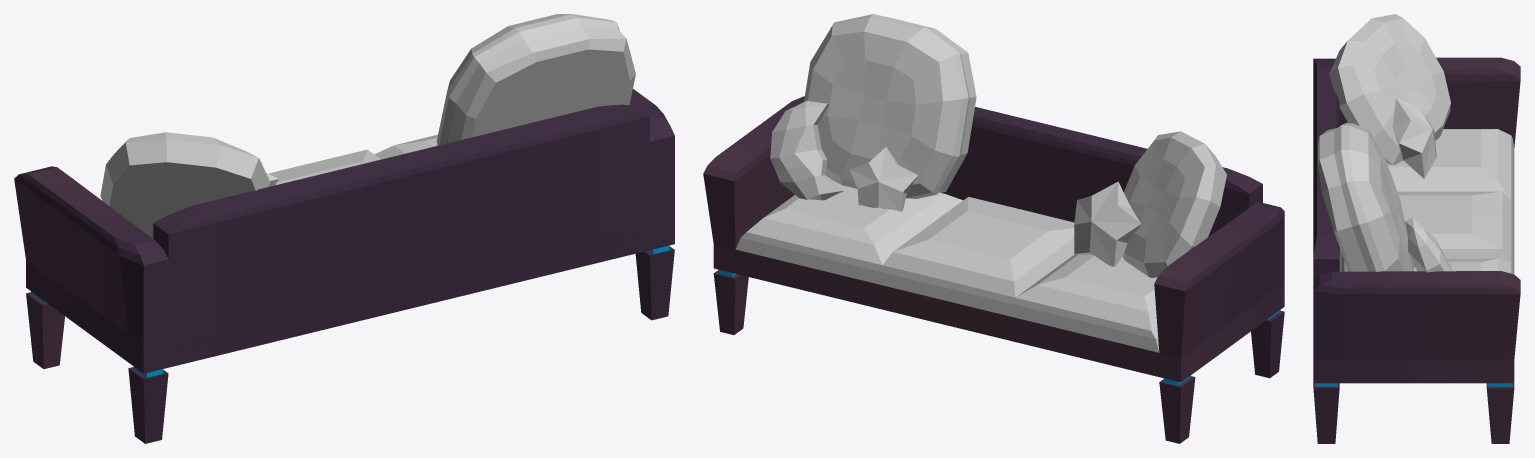
File: Prop_Sofa_ModernStars.fbx
3 views of the same model, side by side, from view 1: azimuth 30°, elevation 25°; view 2: azimuth 150°, elevation 25°; view 3: azimuth 270°, elevation 25° (orthographic). The views are drawn at different scales.
Parts seen in each view (by area): view 1: Cube.002; view 2: Cube.002; view 3: Cube.002.
Part boxes in pixels (box(x1,y1,x2,y2)): Cube.002: box(14, 14, 674, 443); Cube.002: box(703, 14, 1284, 443); Cube.002: box(1313, 14, 1520, 443).
Bounding box in the file's own units: 143 × 76.68 × 54.84.
